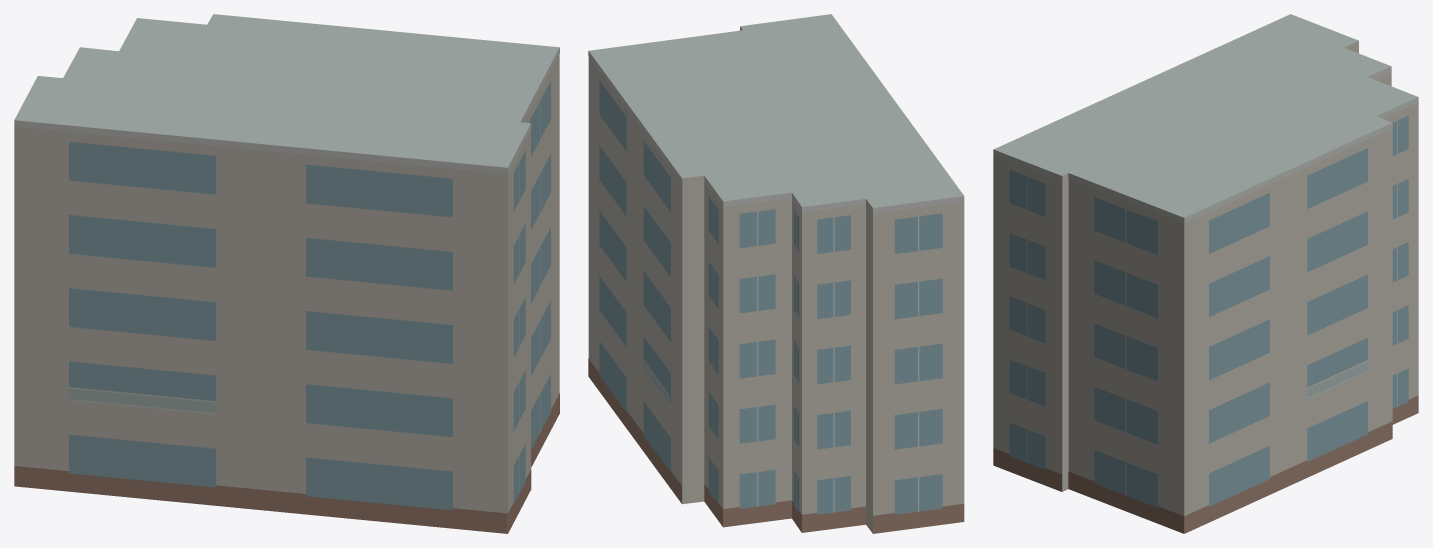
File: survey-upis-32536113.glb
The picture shows the model from 3 angles, left to right: view 1: azimuth 30°, elevation 25°; view 2: azimuth 150°, elevation 25°; view 3: azimuth 270°, elevation 25°; orthographic projection. The views are drawn at different scales.
Parts seen in each view (by area): view 1: survey-upis-32536113.tmp; view 2: survey-upis-32536113.tmp; view 3: survey-upis-32536113.tmp.
Part boxes in pixels (x1,y1,x2,y2): survey-upis-32536113.tmp: (14,14,559,533); survey-upis-32536113.tmp: (588,14,964,533); survey-upis-32536113.tmp: (993,14,1418,533).
Size of the model in its own units: 19.37 by 14 by 17.07.
